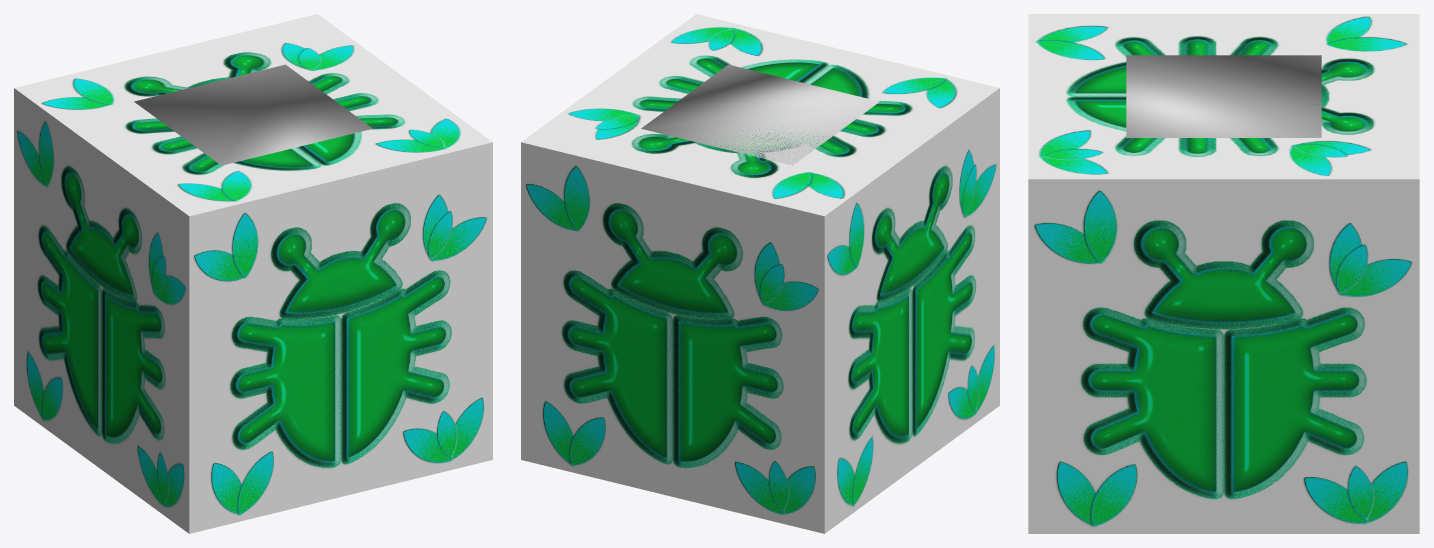
The model's file is DebugSymbols.glb.
3 renders of one model, left to right at view 1: azimuth 30°, elevation 25°; view 2: azimuth 150°, elevation 25°; view 3: azimuth 270°, elevation 25°, orthographic. The views are drawn at different scales.
Parts seen in each view (by area): view 1: Cube, Line.000; view 2: Cube, Line.000; view 3: Cube, Line.000.
Part boxes in pixels (<box>): Cube: <box>14,14,492,533</box>; Line.000: <box>134,64,372,165</box>; Cube: <box>521,14,999,533</box>; Line.000: <box>641,64,879,165</box>; Cube: <box>1028,14,1419,533</box>; Line.000: <box>1126,55,1321,137</box>.
Size of the model in its own units: 2 by 2 by 2.
2 materials, 1 textured.
